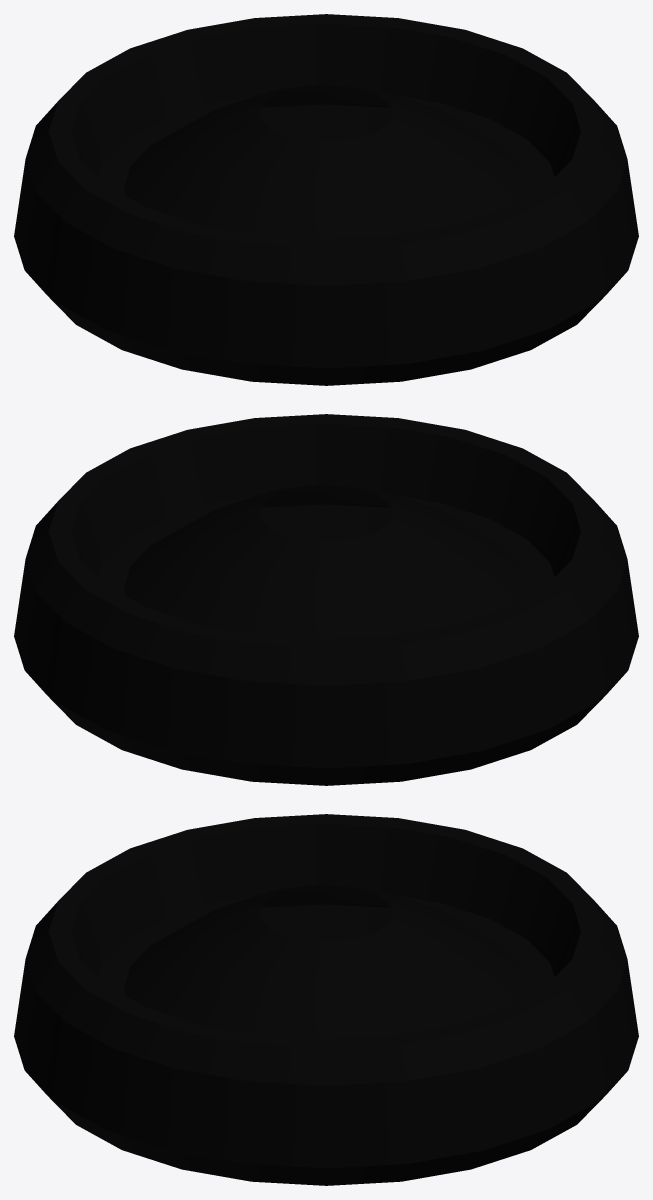
Rendered from Tantares_Port_1.obj.
3 renders of one model, top to bottom at view 1: azimuth 30°, elevation 25°; view 2: azimuth 150°, elevation 25°; view 3: azimuth 270°, elevation 25°, orthographic.
Parts seen in each view (by area): view 1: Tantares_Port_1; view 2: Tantares_Port_1; view 3: Tantares_Port_1.
Part boxes in pixels (x1,y1,x2,y2): Tantares_Port_1: [14, 14, 638, 385]; Tantares_Port_1: [14, 414, 638, 785]; Tantares_Port_1: [14, 814, 638, 1185].
Size of the model in its own units: 0.675 by 0.1795 by 0.675.
1 material, 1 textured.
